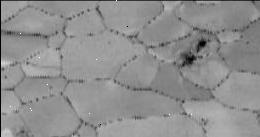good_void: (178, 51, 197, 67), (193, 36, 209, 53)
